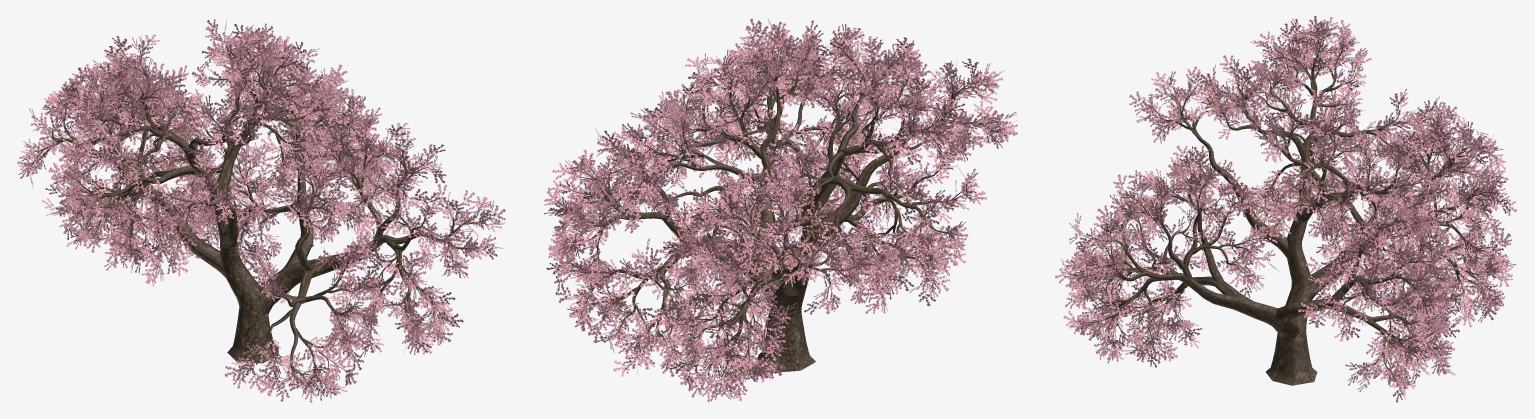
The model's file is my_tree.glb.
The picture shows the model from 3 angles, left to right: view 1: azimuth 30°, elevation 25°; view 2: azimuth 150°, elevation 25°; view 3: azimuth 270°, elevation 25°; orthographic projection. The views are drawn at different scales.
Parts seen in each view (by area): view 1: nodes[1], nodes[0]; view 2: nodes[1], nodes[0]; view 3: nodes[1], nodes[0].
Part boxes in pixels (bbox=[...]): nodes[1]: bbox=[17, 19, 505, 402]; nodes[0]: bbox=[30, 35, 490, 386]; nodes[1]: bbox=[544, 18, 1017, 402]; nodes[0]: bbox=[561, 37, 1005, 389]; nodes[1]: bbox=[1055, 16, 1516, 402]; nodes[0]: bbox=[1069, 32, 1499, 385].
Bounding box in the file's own units: 77.94 × 66.41 × 89.63.
2 materials, 2 textured.
